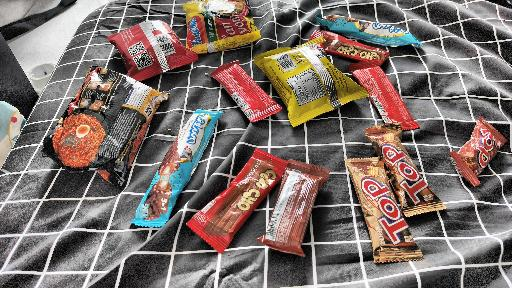chocho: (194, 145, 291, 252), (347, 61, 424, 133), (203, 62, 288, 125), (308, 27, 391, 67)
dilan: (139, 105, 220, 234), (314, 12, 423, 50)
indomie: (180, 1, 262, 57)
mie sedap: (52, 67, 159, 181)
momotaro: (102, 25, 200, 78)
top: (343, 153, 425, 264), (359, 121, 448, 222), (255, 159, 332, 256), (449, 116, 505, 190)
